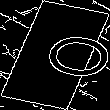O_W: (10, 27, 100, 83)
